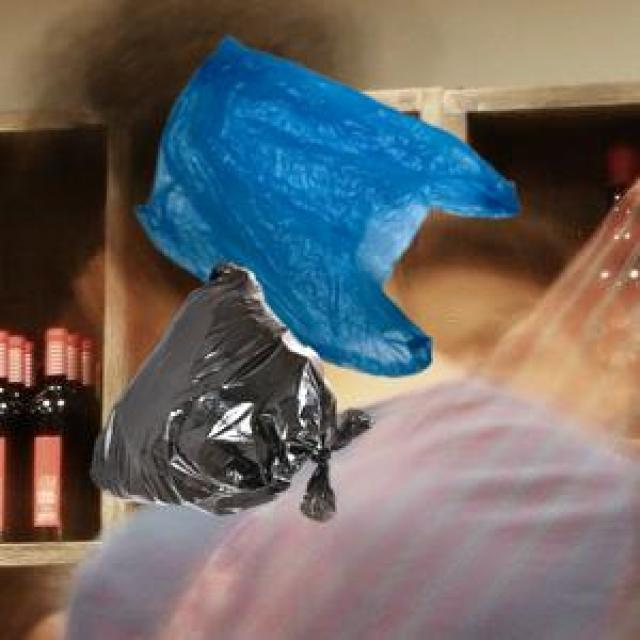miscellaneous trash: (88, 258, 369, 516)
